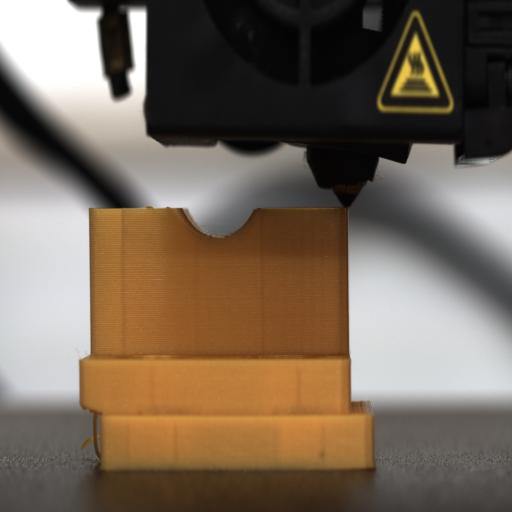layer_shift: (81, 398, 376, 422)
